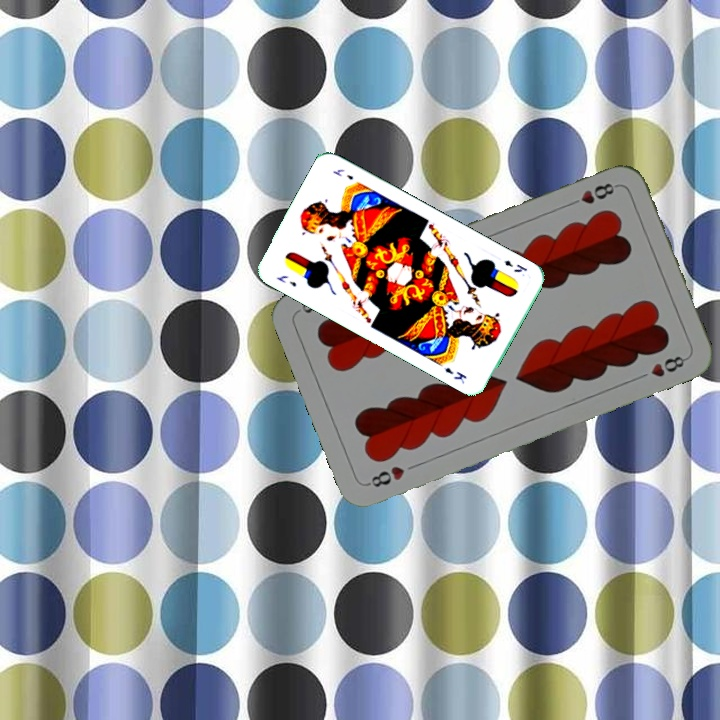EK: (500, 256, 529, 275), (272, 271, 299, 290)
H8: (564, 179, 621, 209), (363, 462, 408, 490)
